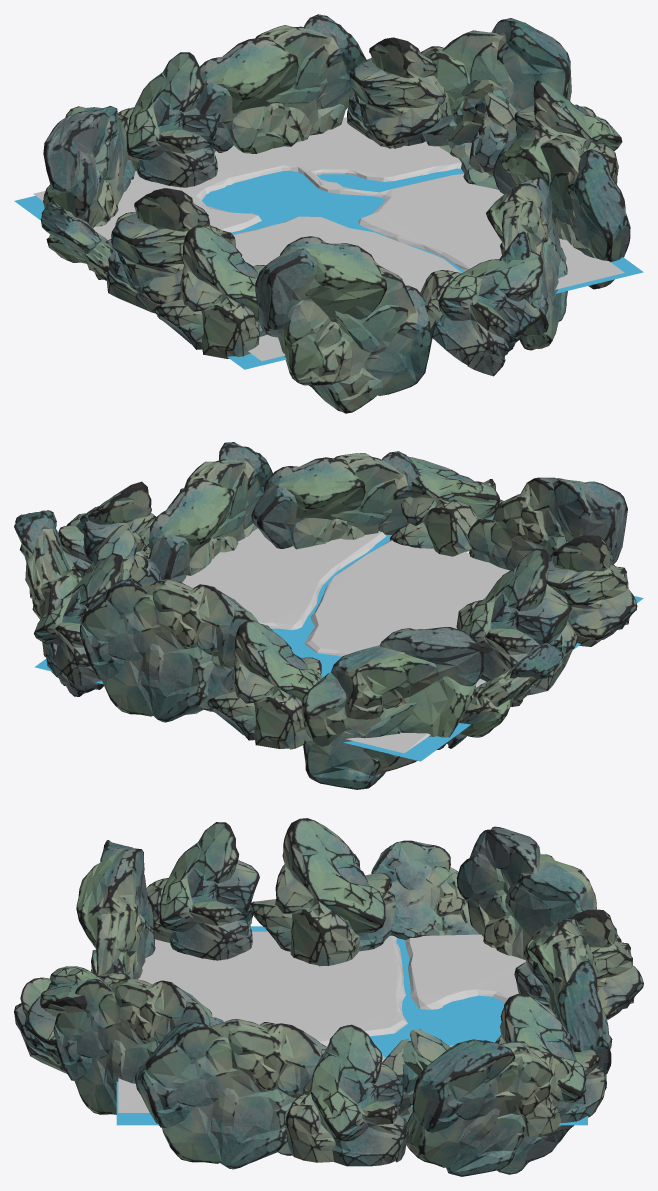
File: Terrain01.fbx
The picture shows the model from 3 angles, top to bottom: view 1: azimuth 30°, elevation 25°; view 2: azimuth 150°, elevation 25°; view 3: azimuth 270°, elevation 25°; orthographic projection. The views are drawn at different scales.
Parts seen in each view (by area): view 1: Terrain01_Rock, Terrain01, Terrain01_Water; view 2: Terrain01_Rock, Terrain01, Terrain01_Water; view 3: Terrain01_Rock, Terrain01, Terrain01_Water.
Boxes of the visible parts, left/top/right/bottom form: Terrain01_Rock: left=40, top=14, right=630, bottom=413; Terrain01: left=33, top=117, right=624, bottom=360; Terrain01_Water: left=14, top=168, right=643, bottom=369; Terrain01_Rock: left=14, top=442, right=637, bottom=789; Terrain01: left=182, top=528, right=509, bottom=753; Terrain01_Water: left=34, top=535, right=643, bottom=761; Terrain01_Rock: left=14, top=818, right=643, bottom=1176; Terrain01: left=118, top=931, right=526, bottom=1112; Terrain01_Water: left=116, top=926, right=587, bottom=1125.
Size of the model in its own units: 60395 by 19288 by 59876.
